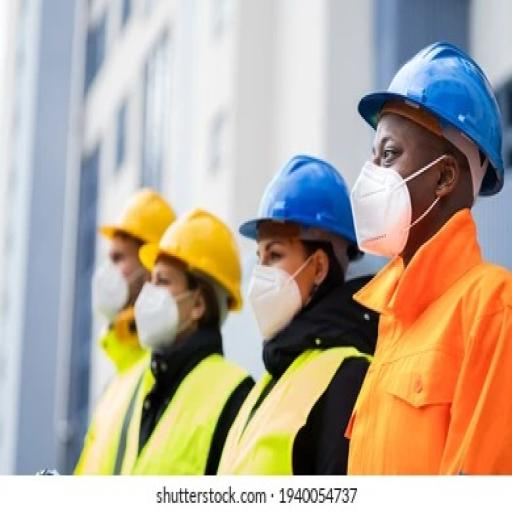mask: (345, 154, 414, 268), (242, 263, 304, 337), (134, 282, 179, 352), (84, 256, 127, 319)
